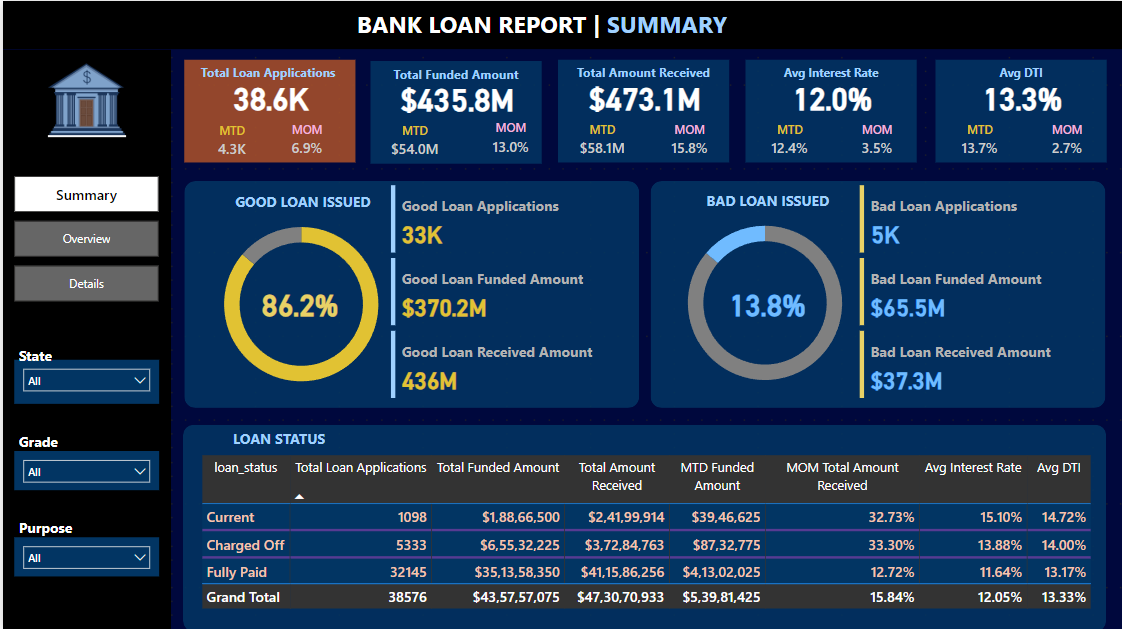

Layout of this report page (visuals, bound fields, positions):
{"tool":"powerbi","page":{"name":"Summary","canvas":[1280,720],"ordinal":0},"visuals":[{"type":"shape","box":[634.8,66.7,195.7,117.4],"z":0,"group":"g6"},{"type":"shape","box":[849.3,66.7,195.7,117.4],"z":0,"group":"g7"},{"type":"shape","box":[1065.2,66.7,195.7,117.4],"z":0,"group":"g8"},{"type":"shape","box":[205.8,484.1,1055.1,236.2],"z":0},{"type":"card","fields":{"Values":["bank_loan_data.Total Amount Received"]},"box":[636.2,82.6,195.7,53.6],"z":1000,"group":"g6"},{"type":"card","fields":{"Values":["bank_loan_data.Avg Interest Rate"]},"box":[850.7,82.6,195.7,53.6],"z":1000,"group":"g7"},{"type":"card","fields":{"Values":["bank_loan_data.Avg DTI"]},"box":[1066.6,82.6,195.7,53.6],"z":1000,"group":"g8"},{"type":"shape","box":[740.6,205.8,520,259.4],"z":1000},{"type":"shape","box":[207.2,66.7,195.7,117.4],"z":2000,"group":"g4"},{"type":"textbox","box":[634.8,66.7,195.7,30.4],"z":2000,"group":"g6"},{"type":"textbox","box":[849.3,66.7,195.7,30.4],"z":2000,"group":"g7"},{"type":"textbox","box":[1065.2,66.7,195.7,30.4],"z":2000,"group":"g8"},{"type":"shape","box":[420.3,68.1,195.7,117.4],"z":2000,"group":"g5"},{"type":"donutChart","fields":{"Category":["bank_loan_data.Good vs Bad Loan"],"Y":["bank_loan_data.Toal Loan Applications"]},"box":[746.4,230.4,250.7,230.4],"z":2000},{"type":"card","title":"MTD","fields":{"Values":["bank_loan_data.MTD Total Amount Received"]},"box":[647.8,136.3,75.4,47.8],"z":3000,"group":"g6"},{"type":"card","title":"MTD","fields":{"Values":["bank_loan_data.MTD Avg Int Rate"]},"box":[862.3,136.3,75.4,47.8],"z":3000,"group":"g7"},{"type":"card","title":"MTD","fields":{"Values":["bank_loan_data.MTD Averge DTI"]},"box":[1078.2,136.3,75.4,47.8],"z":3000,"group":"g8"},{"type":"shape","box":[207.2,205.8,520,259.4],"z":3000},{"type":"shape","box":[0,0,1281.4,55],"z":4000},{"type":"card","fields":{"Values":["bank_loan_data.Toal Loan Applications"]},"box":[208.6,82.6,195.7,53.6],"z":4000,"group":"g4"},{"type":"card","fields":{"Values":["bank_loan_data.Total Funded Amount"]},"box":[421.7,84,195.7,53.6],"z":4000,"group":"g5"},{"type":"group","id":"g1","title":"Group 1","box":[758.8,136.7,52.2,47.8],"z":4000,"group":"g6"},{"type":"group","id":"g2","title":"Group 1","box":[973.3,136.7,52.2,47.8],"z":4000,"group":"g7"},{"type":"group","id":"g3","title":"Group 1","box":[1189.2,136.7,52.2,47.8],"z":4000,"group":"g8"},{"type":"shape","box":[0,55.7,192,665],"z":5000},{"type":"textbox","box":[207.2,66.7,195.7,30.4],"z":5000,"group":"g4"},{"type":"textbox","box":[420.3,68.1,195.7,30.4],"z":5000,"group":"g5"},{"type":"card","title":"MTD","fields":{"Values":["bank_loan_data.MTD Loan Aplications"]},"box":[237.6,137.7,49.3,47.8],"z":6000,"group":"g4"},{"type":"card","title":"MTD","fields":{"Values":["bank_loan_data.MTD Funded Amount"]},"box":[433.3,137.7,75.4,47.8],"z":6000,"group":"g5"},{"type":"card","fields":{"Values":["bank_loan_data.Bad Loan %"]},"box":[810.1,318.8,127.5,53.6],"z":6000},{"type":"textbox","box":[392,2.7,449.3,52],"z":7000},{"type":"card","title":"MOM","fields":{"Values":["bank_loan_data.MOM Loan Applications"]},"box":[323.1,136.3,49.3,47.8],"z":7000,"group":"g4"},{"type":"card","title":"MOM","fields":{"Values":["bank_loan_data.MOM Total Amount Received"]},"box":[758.8,136.7,52.2,47.8],"z":7000,"group":"g1"},{"type":"card","title":"MOM","fields":{"Values":["bank_loan_data.MOM Avg Int Rate"]},"box":[973.3,136.7,52.2,47.8],"z":7000,"group":"g2"},{"type":"card","title":"MOM","fields":{"Values":["bank_loan_data.MOM Avg DTI"]},"box":[1189.2,136.7,52.2,47.8],"z":7000,"group":"g3"},{"type":"group","id":"g4","title":"Group 1","box":[207.2,66.7,197.1,118.8],"z":8000},{"type":"group","id":"g5","title":"Group 2","box":[420.3,68.1,197.1,117.4],"z":9000},{"type":"group","id":"g6","title":"Group 3","box":[634.8,66.7,197.1,117.4],"z":10000},{"type":"group","id":"g7","title":"Group 3","box":[849.3,66.7,197.1,117.4],"z":11000},{"type":"card","title":"MOM","fields":{"Values":["bank_loan_data.MOM Total Funded Amount"]},"box":[553.6,136.2,52.2,47.8],"z":12000},{"type":"group","id":"g8","title":"Group 3","box":[1065.2,66.7,197.1,117.4],"z":13000},{"type":"donutChart","fields":{"Category":["bank_loan_data.Good vs Bad Loan"],"Y":["bank_loan_data.Toal Loan Applications"]},"box":[215.9,231.9,250.7,230.4],"z":14000},{"type":"textbox","box":[785.5,211.6,176.8,37.7],"z":15000},{"type":"cardVisual","fields":{"Data":["bank_loan_data.Good Loan Applications","bank_loan_data.Good Loan Funded Amount","bank_loan_data.Good Loan Received Amount"]},"box":[439.1,205.8,272.5,255.1],"z":16000},{"type":"textbox","box":[253.6,213,176.8,37.7],"z":17000},{"type":"cardVisual","fields":{"Data":["bank_loan_data.Bad Loan Applications","bank_loan_data.Bad Loan Funded Amount","bank_loan_data.Bad Loan Received Amount"]},"box":[973.9,205.8,272.5,255.1],"z":18000},{"type":"tableEx","fields":{"Values":["bank_loan_data.loan_status","bank_loan_data.Total Loan Applications","bank_loan_data.Total Funded Amount","bank_loan_data.Total Amount Received","bank_loan_data.MTD Funded Amount","bank_loan_data.MOM Total Amount Received","bank_loan_data.Avg Interest Rate","bank_loan_data.Avg DTI"]},"box":[221.7,514.5,1039.1,195.7],"z":19000},{"type":"textbox","box":[227.5,484.1,176.8,37.7],"z":20000},{"type":"slicer","fields":{"Values":["bank_loan_data.address_state"]},"box":[13,410.1,165.2,50.7],"z":21000},{"type":"textbox","box":[13,388.4,63.8,34.8],"z":22000},{"type":"slicer","fields":{"Values":["bank_loan_data.grade"]},"box":[13,514.5,165.2,44.9],"z":23000},{"type":"textbox","box":[13,487,82.6,34.8],"z":24000},{"type":"slicer","fields":{"Values":["bank_loan_data.purpose"]},"box":[13,613,165.2,44.9],"z":25000},{"type":"textbox","box":[13,585.5,104.3,34.8],"z":26000},{"type":"card","fields":{"Values":["bank_loan_data.Good Loan %"]},"box":[275.4,318.8,127.5,53.6],"z":27000},{"type":"image","box":[0,55.7,192,115.5],"z":28000},{"type":"pageNavigator","box":[12.5,200.3,165.6,144.7],"z":29000}]}

Visuals, with their boxes in screenshot pixels (x1, y1, x2, y2), scaled from the page's 1280x720 canvas onto the 1122x629 screenshot:
shape: box=[556, 58, 728, 161]
shape: box=[744, 58, 916, 161]
shape: box=[934, 58, 1105, 161]
shape: box=[180, 423, 1105, 628]
card - bank_loan_data.Total Amount Received: box=[558, 72, 729, 119]
card - bank_loan_data.Avg Interest Rate: box=[746, 72, 917, 119]
card - bank_loan_data.Avg DTI: box=[935, 72, 1106, 119]
shape: box=[649, 180, 1105, 406]
shape: box=[182, 58, 353, 161]
textbox: box=[556, 58, 728, 85]
textbox: box=[744, 58, 916, 85]
textbox: box=[934, 58, 1105, 85]
shape: box=[368, 59, 540, 162]
donutChart - bank_loan_data.Good vs Bad Loan x bank_loan_data.Toal Loan Applications: box=[654, 201, 874, 403]
"MTD" card: box=[568, 119, 634, 161]
"MTD" card: box=[756, 119, 822, 161]
"MTD" card: box=[945, 119, 1011, 161]
shape: box=[182, 180, 637, 406]
shape: box=[0, 0, 1121, 48]
card - bank_loan_data.Toal Loan Applications: box=[183, 72, 354, 119]
card - bank_loan_data.Total Funded Amount: box=[370, 73, 541, 120]
"Group 1" group: box=[665, 119, 711, 161]
"Group 1" group: box=[853, 119, 899, 161]
"Group 1" group: box=[1042, 119, 1088, 161]
shape: box=[0, 49, 168, 628]
textbox: box=[182, 58, 353, 85]
textbox: box=[368, 59, 540, 86]
"MTD" card: box=[208, 120, 251, 162]
"MTD" card: box=[380, 120, 446, 162]
card - bank_loan_data.Bad Loan %: box=[710, 279, 822, 325]
textbox: box=[344, 2, 737, 48]
"MOM" card: box=[283, 119, 326, 161]
"MOM" card: box=[665, 119, 711, 161]
"MOM" card: box=[853, 119, 899, 161]
"MOM" card: box=[1042, 119, 1088, 161]
"Group 1" group: box=[182, 58, 354, 162]
"Group 2" group: box=[368, 59, 541, 162]
"Group 3" group: box=[556, 58, 729, 161]
"Group 3" group: box=[744, 58, 917, 161]
"MOM" card: box=[485, 119, 531, 161]
"Group 3" group: box=[934, 58, 1106, 161]
donutChart - bank_loan_data.Good vs Bad Loan x bank_loan_data.Toal Loan Applications: box=[189, 203, 409, 404]
textbox: box=[689, 185, 844, 218]
cardVisual - bank_loan_data.Good Loan Applications x bank_loan_data.Good Loan Funded Amount: box=[385, 180, 624, 403]
textbox: box=[222, 186, 377, 219]
cardVisual - bank_loan_data.Bad Loan Applications x bank_loan_data.Bad Loan Funded Amount: box=[854, 180, 1093, 403]
tableEx - bank_loan_data.loan_status x bank_loan_data.Total Loan Applications: box=[194, 449, 1105, 620]
textbox: box=[199, 423, 354, 456]
slicer - bank_loan_data.address_state: box=[11, 358, 156, 403]
textbox: box=[11, 339, 67, 370]
slicer - bank_loan_data.grade: box=[11, 449, 156, 489]
textbox: box=[11, 425, 84, 456]
slicer - bank_loan_data.purpose: box=[11, 536, 156, 575]
textbox: box=[11, 511, 103, 542]
card - bank_loan_data.Good Loan %: box=[241, 279, 353, 325]
image: box=[0, 49, 168, 150]
pageNavigator: box=[11, 175, 156, 301]
